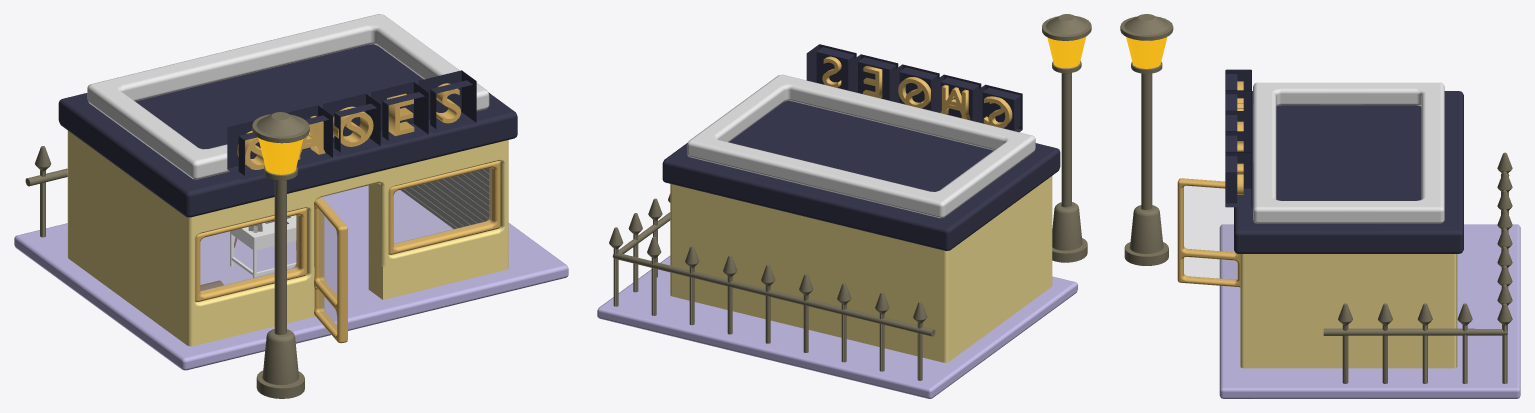
The model's file is shore.glb.
3 renders of one model, left to right at view 1: azimuth 30°, elevation 25°; view 2: azimuth 150°, elevation 25°; view 3: azimuth 270°, elevation 25°, orthographic. The views are drawn at different scales.
Visible parts, largest first — view 1: Plane.002, Plane.004, Plane.006, Circle.002, Right Window, Plane.007, Left Window, Office2_parquet2.001, Plane.008, Plane.014, Plane.013, Plane.012 (+8 smaller); view 2: Plane.002, Plane.004, Plane.006, Plane.010, Circle.002, Plane.009, Plane.003, Plane.014, Plane.013, Plane.012, Plane.011, Text.008 (+2 smaller); view 3: Plane.002, Plane.004, Plane.006, Circle.002, Plane.010, Plane, Plane.008, Plane.009, Plane.014, Plane.003, Plane.012, Plane.013 (+1 smaller).
Part boxes in pixels (box(x1,y1,x2,y2)): Plane.002: box(14, 130, 568, 370); Plane.004: box(58, 44, 517, 217); Plane.006: box(87, 14, 489, 179); Circle.002: box(252, 112, 309, 398); Right Window: box(394, 168, 491, 245); Plane.007: box(195, 161, 500, 301); Left Window: box(200, 215, 298, 292); Office2_parquet2.001: box(400, 168, 489, 228); Plane.008: box(314, 198, 347, 343); Plane.014: box(418, 70, 476, 133); Plane.013: box(371, 82, 428, 144); Plane.012: box(323, 94, 380, 156); Plane.002: box(597, 176, 1077, 398); Plane.004: box(662, 101, 1060, 250); Plane.006: box(687, 74, 1035, 218); Plane.010: box(609, 193, 927, 380); Circle.002: box(1042, 14, 1091, 262); Plane.009: box(612, 212, 935, 336); Plane.003: box(972, 84, 1022, 132); Plane.014: box(806, 44, 856, 90); Plane.013: box(848, 54, 898, 100); Plane.012: box(889, 64, 939, 110); Plane.011: box(931, 74, 981, 120); Text.008: box(898, 77, 930, 108); Plane.002: box(1219, 224, 1520, 398); Plane.004: box(1234, 91, 1463, 253); Plane.006: box(1253, 82, 1444, 223); Circle.002: box(1120, 14, 1173, 265); Plane.010: box(1338, 152, 1512, 383); Plane: box(1184, 186, 1237, 279); Plane.008: box(1177, 178, 1240, 287); Plane.009: box(1323, 173, 1509, 335); Plane.014: box(1225, 152, 1251, 207); Plane.003: box(1225, 69, 1251, 90); Plane.012: box(1225, 111, 1251, 131); Plane.013: box(1225, 131, 1251, 152).
Bounding box in the file's own units: 10.97 × 7.41 × 11.17.
12 materials, 1 textured.
